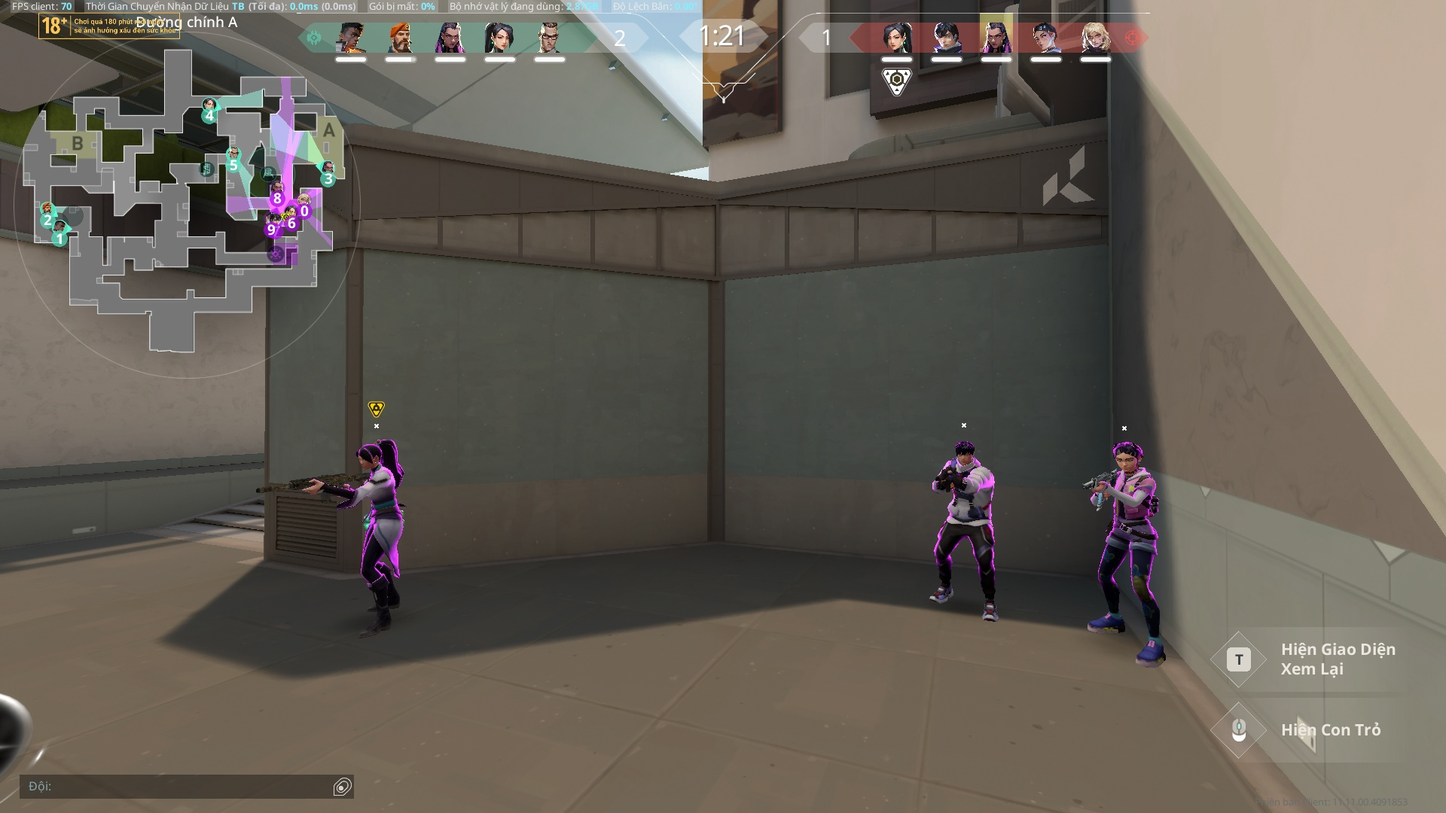body: (1106, 466, 1157, 538), (945, 458, 994, 526), (359, 470, 404, 528)
head: (1111, 441, 1143, 471), (356, 445, 383, 469), (953, 440, 977, 463)
